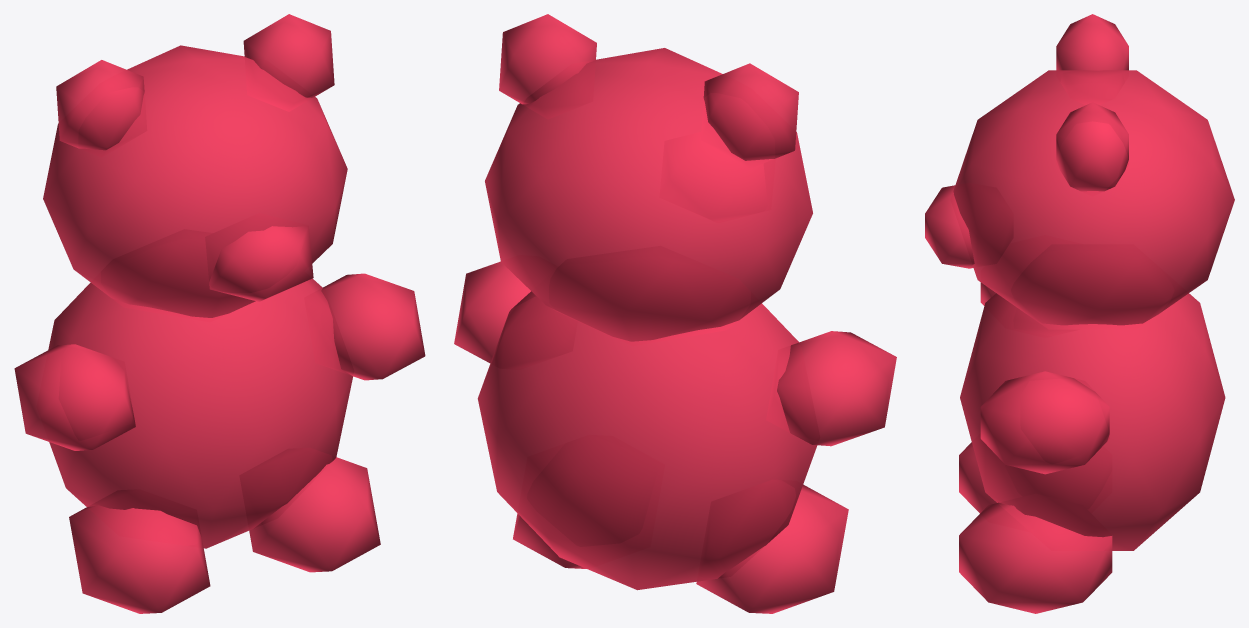
The model's file is w1_04_gummy_bear.glb.
3 views of the same model, side by side, from view 1: azimuth 30°, elevation 25°; view 2: azimuth 150°, elevation 25°; view 3: azimuth 270°, elevation 25° (orthographic). The views are drawn at different scales.
Parts seen in each view (by area): view 1: W1_04_GummyBear; view 2: W1_04_GummyBear; view 3: W1_04_GummyBear.
Boxes of the visible parts, x1,y1,x2,y2 form: W1_04_GummyBear: (14, 14, 425, 613); W1_04_GummyBear: (454, 14, 896, 613); W1_04_GummyBear: (925, 14, 1234, 613).
Bounding box in the file's own units: 0.4563 × 0.6 × 0.3268.
1 material, 1 textured.
